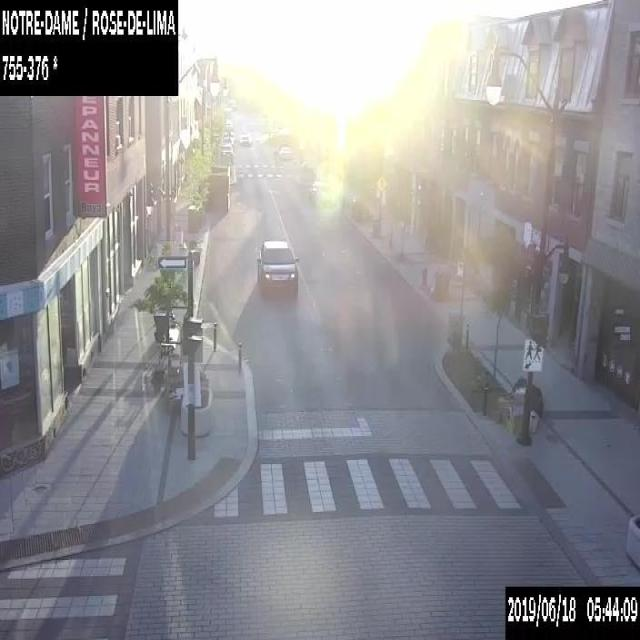vehicle: (257, 240, 299, 299), (219, 143, 232, 156), (279, 146, 291, 158), (222, 136, 232, 146), (239, 133, 248, 144)
